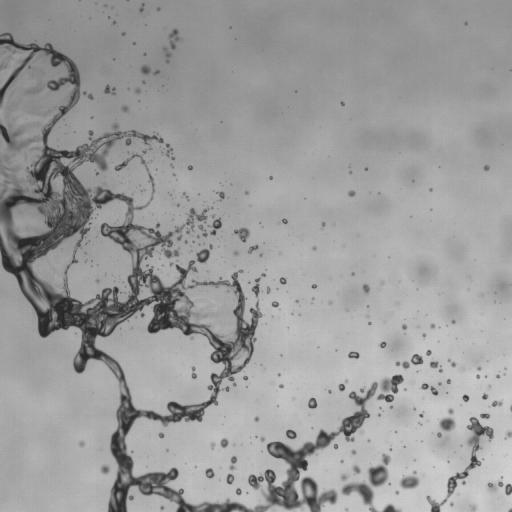droplet: (341, 453, 402, 511), (438, 408, 455, 432), (399, 471, 419, 489), (234, 227, 249, 242), (286, 429, 296, 439), (338, 380, 347, 391), (308, 397, 317, 408), (104, 85, 114, 94), (205, 468, 214, 478), (141, 65, 150, 74), (100, 465, 109, 474), (352, 465, 361, 474), (248, 245, 258, 253), (226, 474, 234, 484), (348, 351, 359, 358), (220, 438, 228, 447), (491, 400, 502, 406), (362, 284, 369, 293), (448, 359, 455, 367), (340, 473, 348, 480), (164, 48, 170, 57), (379, 341, 386, 348), (462, 394, 469, 401), (469, 504, 476, 511), (218, 192, 224, 200), (480, 413, 489, 418), (348, 190, 355, 196), (280, 277, 286, 284), (272, 301, 279, 307), (11, 167, 19, 172), (122, 106, 128, 112), (506, 430, 511, 437), (236, 488, 241, 495), (87, 94, 93, 99), (483, 165, 489, 170), (482, 393, 487, 399), (159, 432, 164, 438), (426, 350, 431, 355), (79, 441, 84, 446), (210, 442, 214, 448), (139, 6, 143, 11), (0, 64, 5, 68), (188, 165, 192, 170), (282, 219, 287, 223), (430, 323, 434, 328), (402, 324, 406, 329), (437, 432, 441, 437), (334, 444, 338, 449), (267, 287, 270, 293), (154, 70, 158, 74), (136, 89, 140, 93), (312, 246, 316, 250), (312, 284, 316, 288), (477, 366, 481, 370), (243, 376, 247, 380), (446, 379, 450, 383), (279, 384, 283, 388), (419, 413, 423, 417), (254, 417, 258, 421), (260, 437, 264, 441), (351, 450, 355, 454), (143, 150, 146, 154), (234, 251, 237, 255), (422, 333, 425, 337), (341, 102, 344, 105), (262, 273, 265, 276), (476, 375, 479, 378), (496, 375, 499, 378), (160, 506, 163, 509), (508, 508, 511, 511), (122, 32, 124, 35), (322, 223, 325, 225), (329, 301, 331, 304), (452, 320, 454, 323), (328, 390, 331, 392), (340, 460, 343, 462), (395, 491, 398, 493), (450, 503, 453, 505), (345, 509, 348, 511), (29, 66, 31, 68), (270, 177, 272, 179), (246, 191, 248, 193), (212, 215, 214, 217), (369, 322, 371, 324), (390, 406, 392, 408)
ligament: (0, 34, 400, 511), (426, 417, 493, 511), (395, 354, 423, 368), (487, 480, 511, 495), (421, 383, 438, 395), (210, 218, 221, 235), (169, 29, 178, 49), (251, 278, 260, 298), (429, 360, 442, 372), (198, 224, 208, 236), (25, 86, 41, 93), (166, 143, 173, 159), (229, 456, 236, 470), (191, 367, 196, 378), (183, 193, 188, 199), (510, 406, 511, 411)
